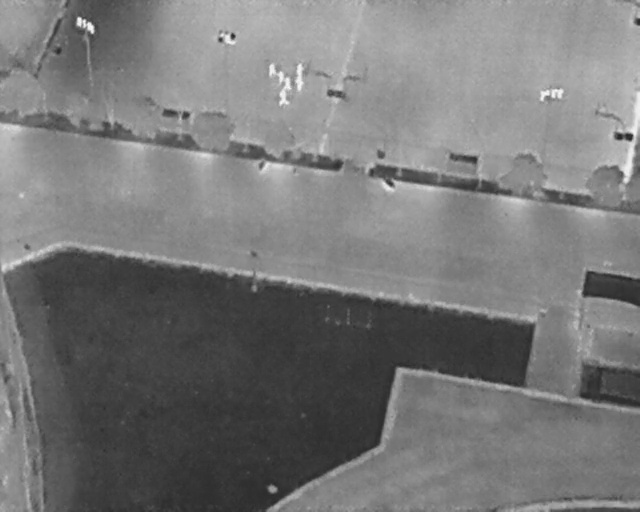Person: (278, 88, 291, 107), (295, 63, 305, 80), (295, 75, 304, 91), (284, 76, 292, 92), (268, 63, 276, 78), (277, 70, 285, 85)
